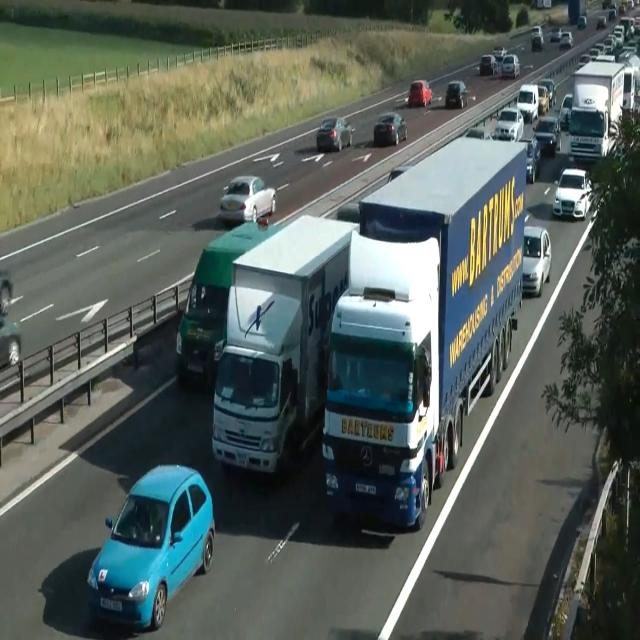bus: (86, 463, 215, 631), (218, 174, 276, 223), (552, 167, 594, 221), (522, 225, 552, 297), (316, 116, 356, 152), (373, 111, 407, 146), (0, 314, 22, 367), (494, 107, 524, 141), (525, 136, 541, 183), (407, 79, 431, 108), (445, 80, 467, 108), (0, 271, 13, 316), (538, 77, 556, 107), (558, 93, 572, 130), (387, 164, 411, 185), (537, 84, 549, 114), (464, 126, 485, 140), (559, 30, 573, 48), (493, 46, 507, 60), (550, 26, 562, 42), (577, 15, 587, 29), (596, 15, 606, 29)
car: (321, 228, 441, 530)
jeep: (175, 217, 285, 389), (532, 116, 561, 154), (516, 82, 539, 122), (501, 54, 520, 78), (479, 54, 496, 76), (530, 25, 544, 51)
minibus: (321, 134, 527, 532), (212, 212, 358, 478), (567, 59, 639, 164)
